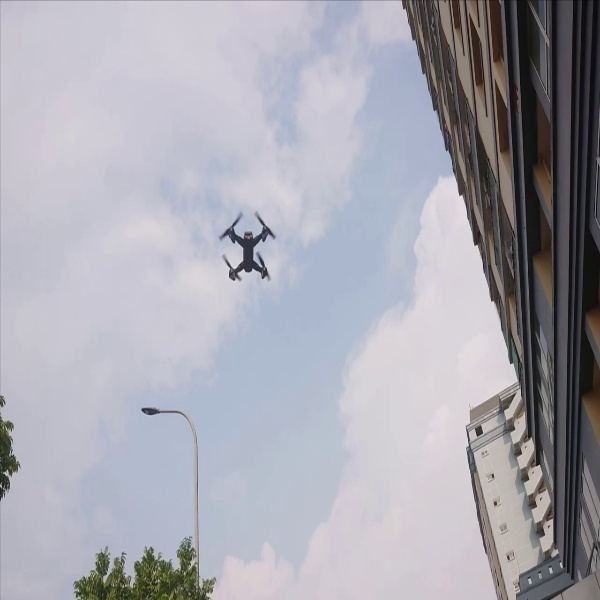drone: (212, 201, 286, 294)
